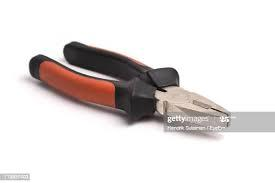pliers: (28, 40, 231, 128)
